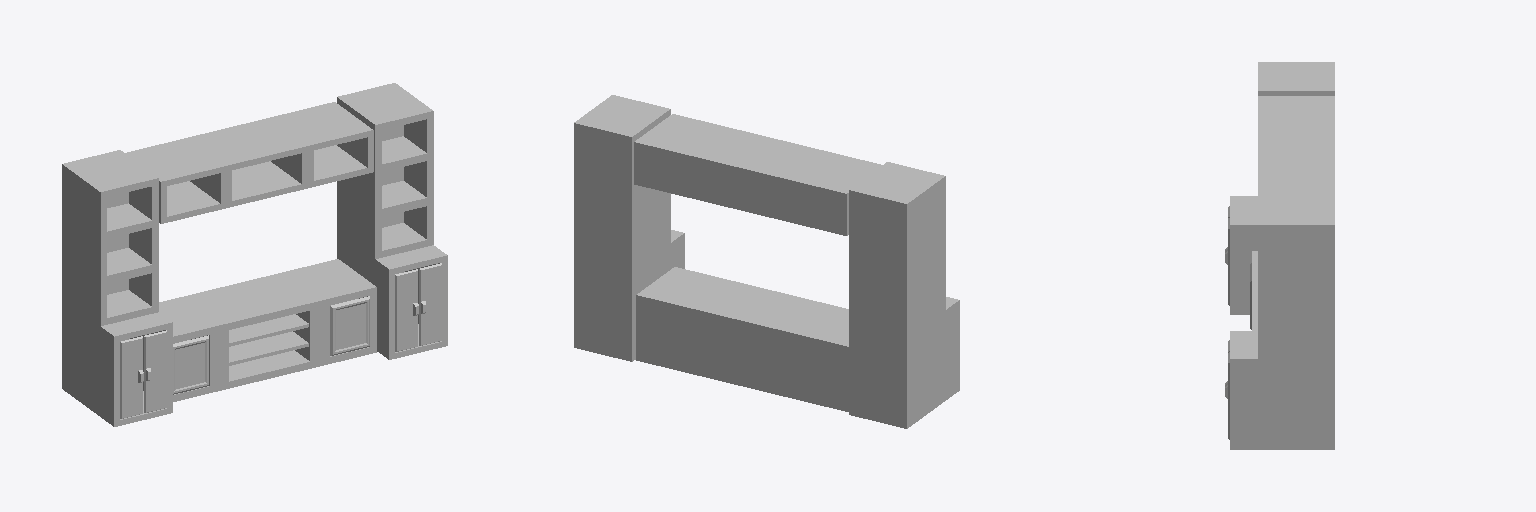
The model's file is EntertainmentCenterExtruded.obj.
The picture shows the model from 3 angles: view 1: azimuth 30°, elevation 25°; view 2: azimuth 150°, elevation 25°; view 3: azimuth 270°, elevation 25°; orthographic projection.
Visible parts, largest first — view 1: EntertainmentCenter_Cube.013; view 2: EntertainmentCenter_Cube.013; view 3: EntertainmentCenter_Cube.013.
Part boxes in pixels (x1,y1,x2,y2): EntertainmentCenter_Cube.013: (62, 83, 447, 426); EntertainmentCenter_Cube.013: (574, 95, 959, 428); EntertainmentCenter_Cube.013: (1225, 62, 1334, 449).
Size of the model in its own units: 11.6 by 7.49 by 3.32.